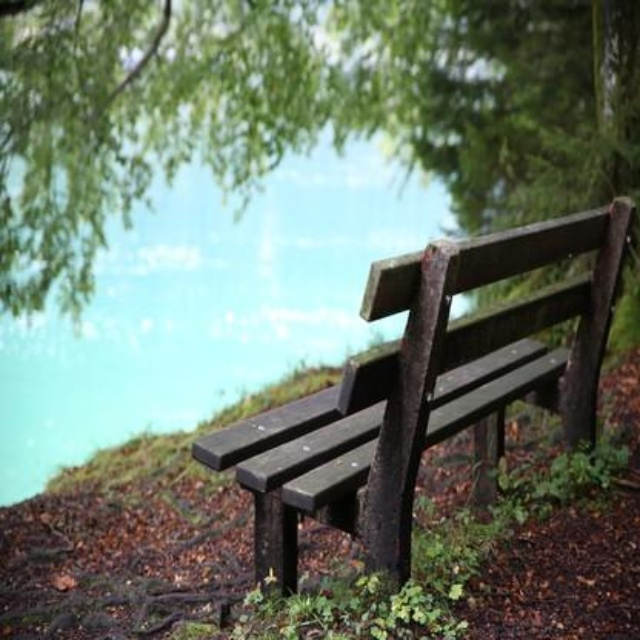obstacle: (189, 183, 629, 595)
